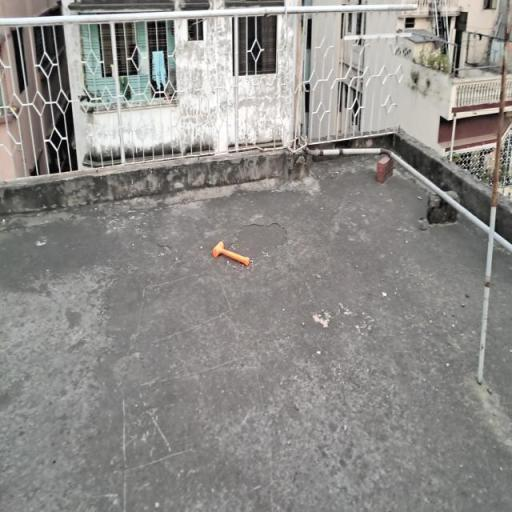mallet: (212, 241, 250, 266)
